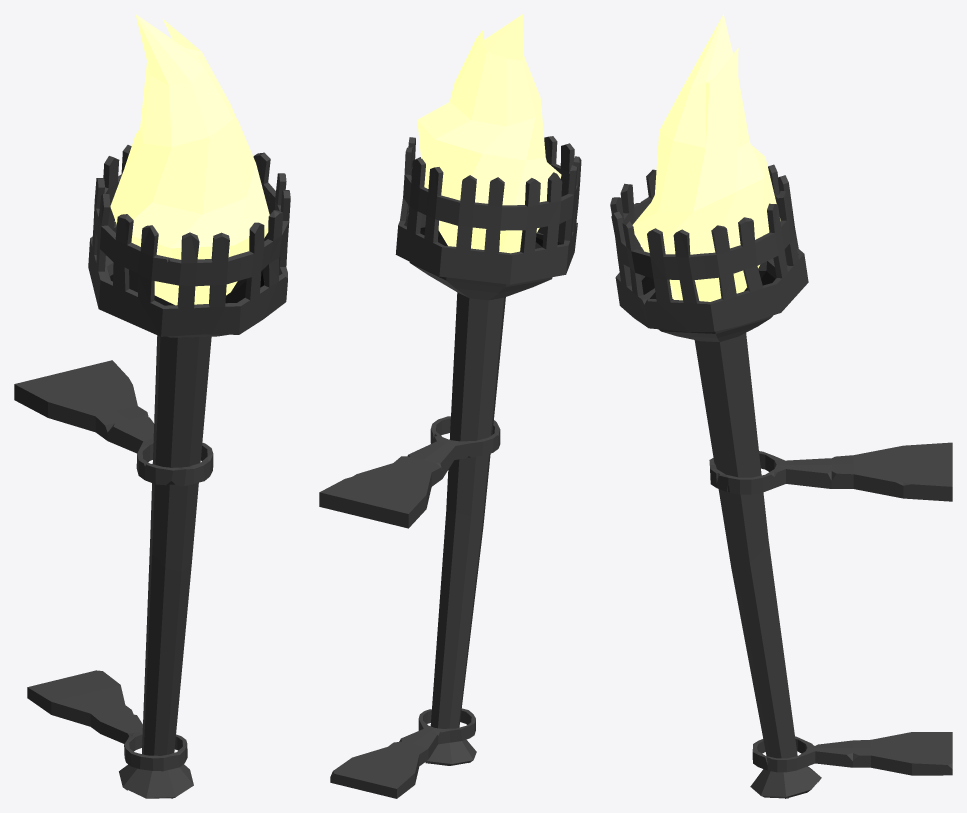
The model's file is torch_big.fbx.
3 renders of one model, left to right at view 1: azimuth 30°, elevation 25°; view 2: azimuth 150°, elevation 25°; view 3: azimuth 270°, elevation 25°, orthographic. The views are drawn at different scales.
Visible parts, largest first — view 1: torch_big; view 2: torch_big; view 3: torch_big.
Boxes of the visible parts, x1,y1,x2,y2 form: torch_big: (14, 14, 290, 798); torch_big: (319, 14, 581, 798); torch_big: (610, 14, 952, 798).
Size of the model in its own units: 73.22 by 318 by 132.
